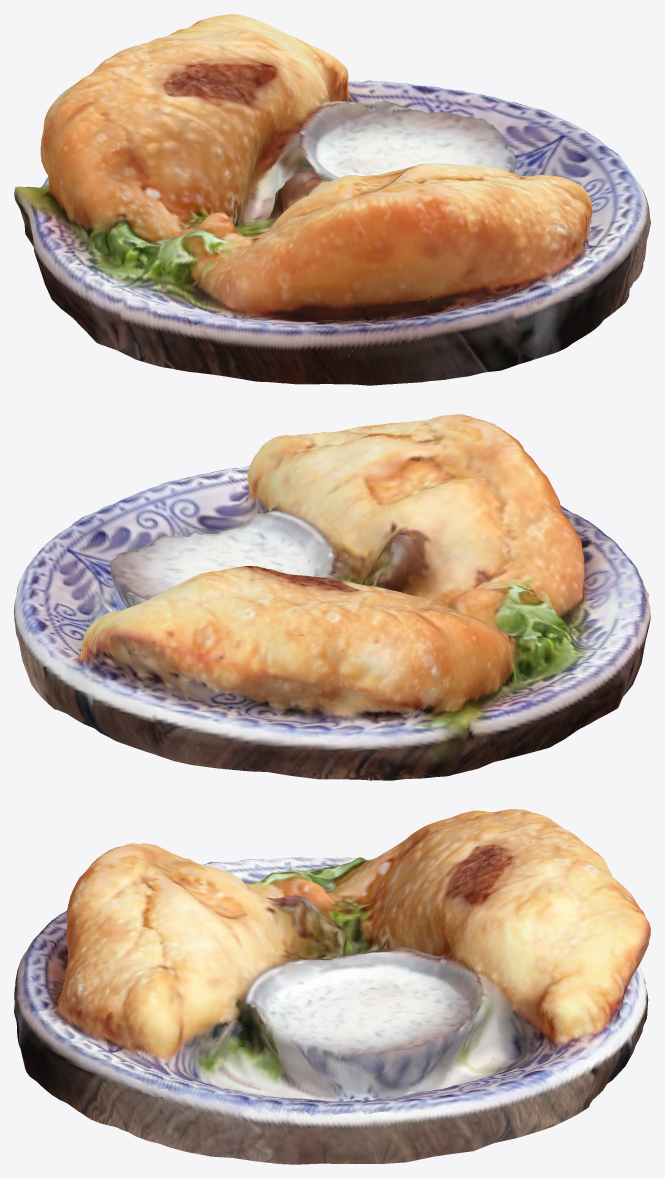
File: Salmon_Empanadas.glb
3 views of the same model, one above another, from view 1: azimuth 30°, elevation 25°; view 2: azimuth 150°, elevation 25°; view 3: azimuth 270°, elevation 25° (orthographic). The views are drawn at different scales.
Bounding box in the file's own units: 0.1568 × 0.0448 × 0.1578.
Materials: 1 (1 with a texture image).
